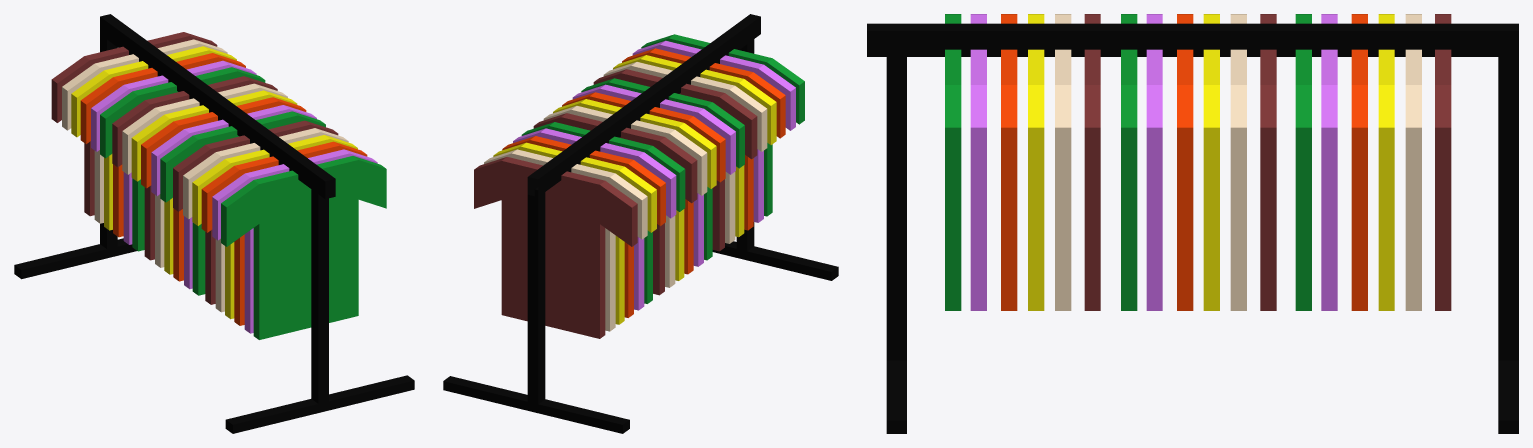
File: Clotherack.fbx
3 views of the same model, side by side, from view 1: azimuth 30°, elevation 25°; view 2: azimuth 150°, elevation 25°; view 3: azimuth 270°, elevation 25° (orthographic). The views are drawn at different scales.
Visible parts, largest first — view 1: Cube.006; view 2: Cube.006; view 3: Cube.006.
Part boxes in pixels (x1,y1,x2,y2): Cube.006: (14, 14, 414, 433); Cube.006: (443, 14, 838, 433); Cube.006: (867, 14, 1518, 433).
Bounding box in the file's own units: 148 × 184 × 317.
